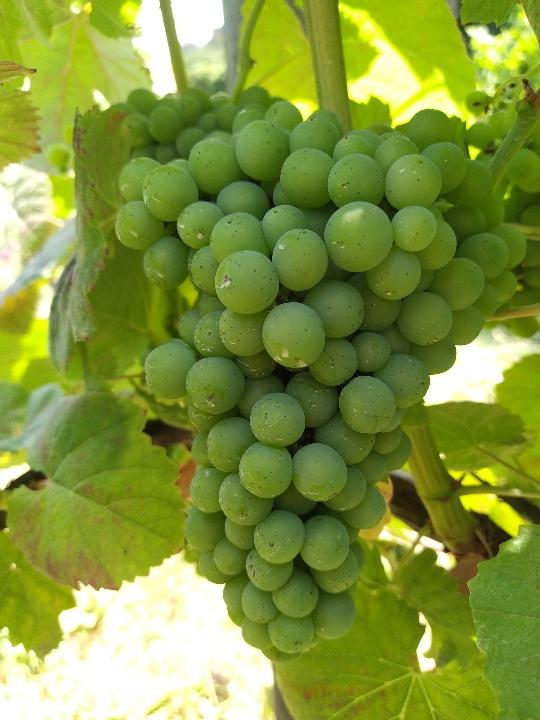grape: (112, 102, 529, 662)
